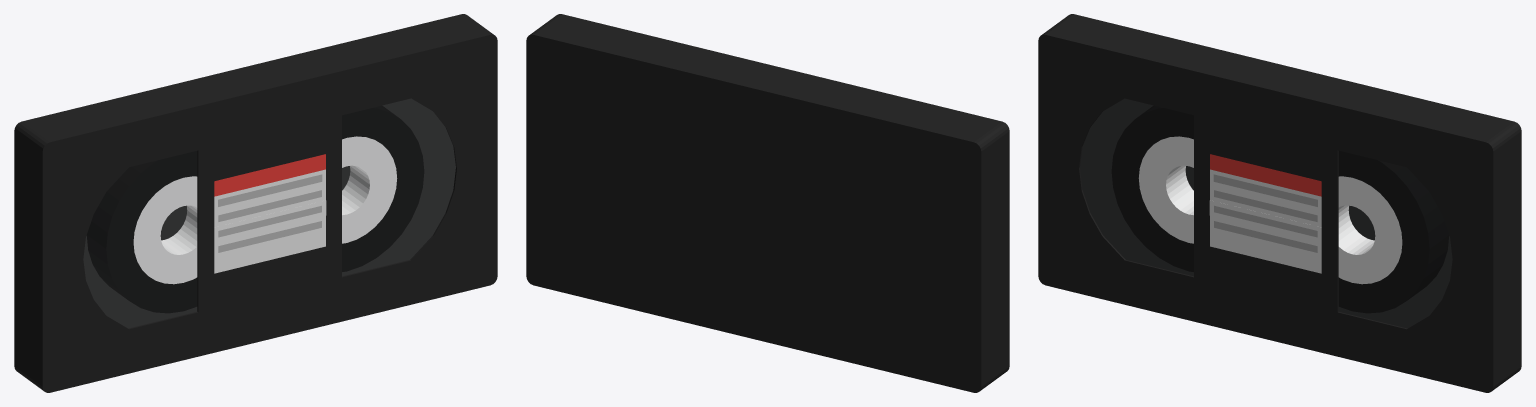
File: videocassette.glb
3 renders of one model, left to right at view 1: azimuth 30°, elevation 25°; view 2: azimuth 150°, elevation 25°; view 3: azimuth 330°, elevation 25°, orthographic.
Parts seen in each view (by area): view 1: Cube.943; view 2: Cube.943; view 3: Cube.943.
Part boxes in pixels (box(x1,y1,x2,y2)): Cube.943: box(14, 14, 497, 392); Cube.943: box(526, 14, 1009, 392); Cube.943: box(1038, 14, 1521, 392).
Size of the model in its own units: 2.28 by 1.2 by 0.2467.
2 materials, 1 textured.
